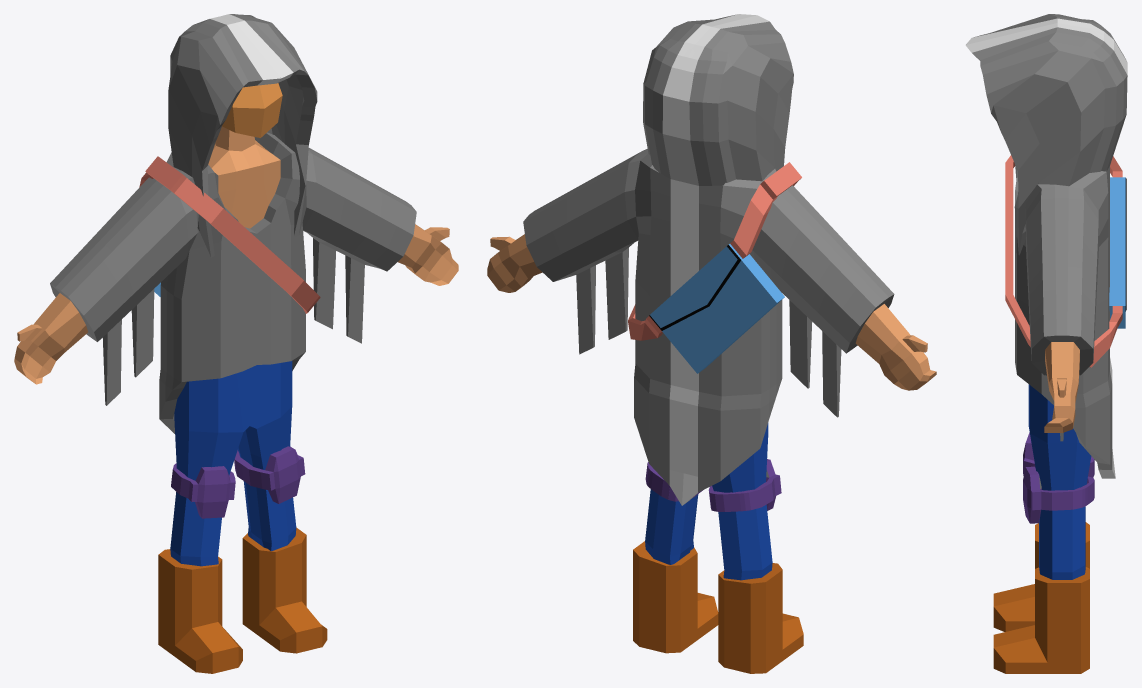
The model's file is player_skin_v3_colored.fbx.
The picture shows the model from 3 angles, left to right: view 1: azimuth 30°, elevation 25°; view 2: azimuth 150°, elevation 25°; view 3: azimuth 270°, elevation 25°; orthographic projection.
Parts seen in each view (by area): view 1: Cube, Cube.002, Cube.001; view 2: Cube, Cube.002; view 3: Cube, Cube.002.
Boxes of the visible parts, <box> form: Cube: <box>14,14,458,673</box>; Cube.002: <box>139,156,320,313</box>; Cube.001: <box>222,83,282,137</box>; Cube: <box>487,14,936,673</box>; Cube.002: <box>628,162,801,373</box>; Cube: <box>965,14,1127,673</box>; Cube.002: <box>1005,155,1126,367</box>.
Bounding box in the file's own units: 750 × 1012 × 240.
